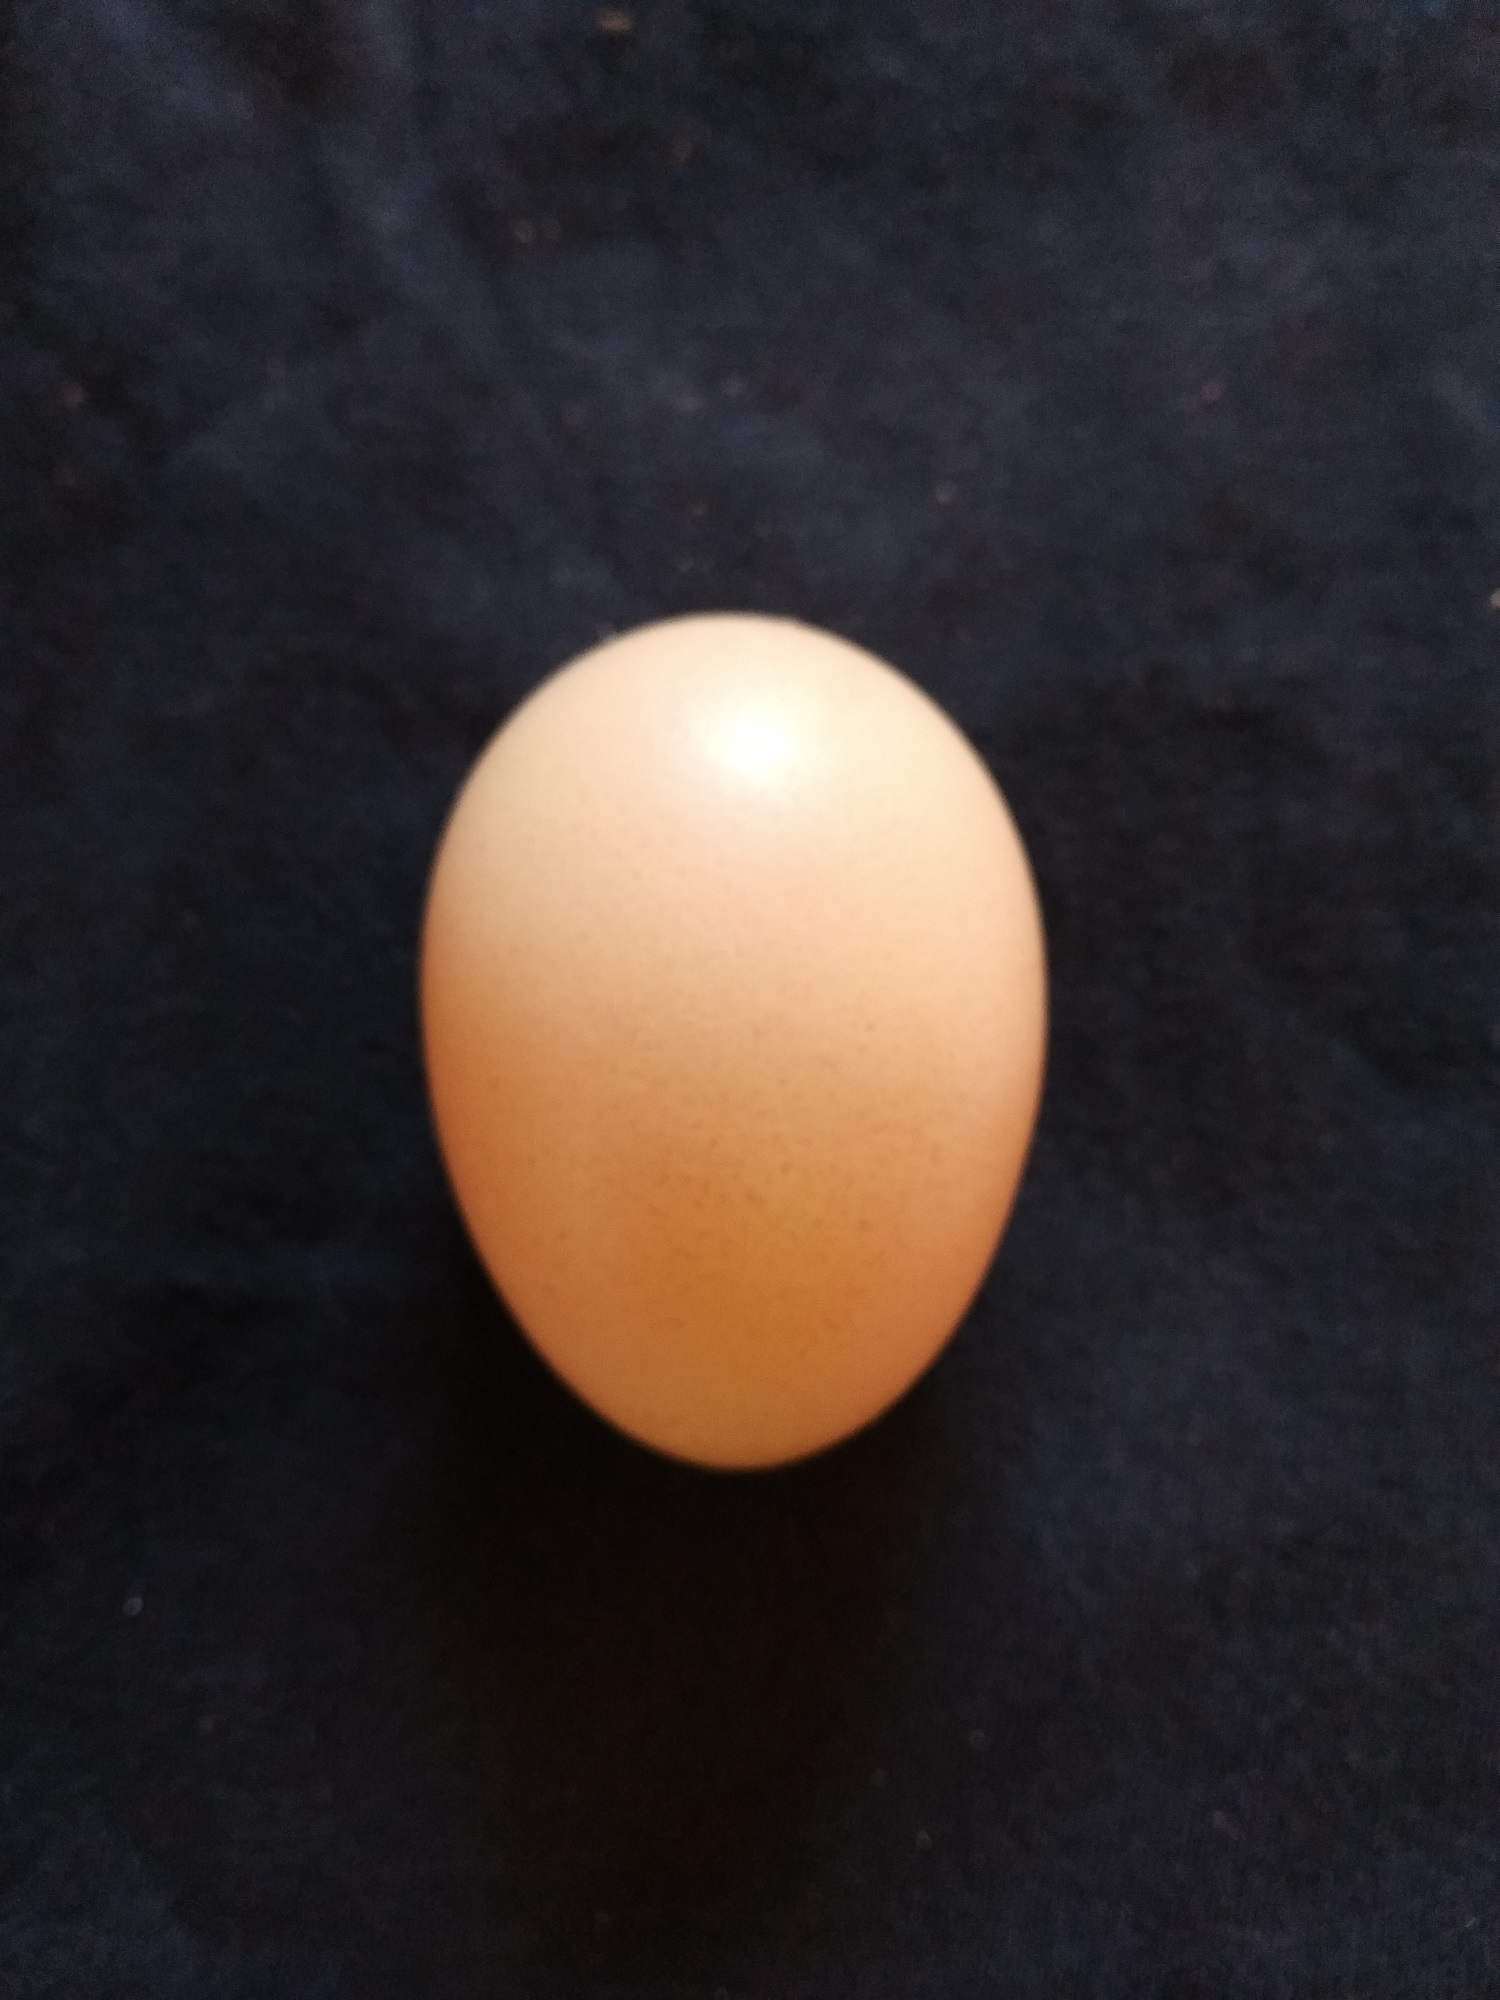Female: (418, 603, 1057, 1479)
